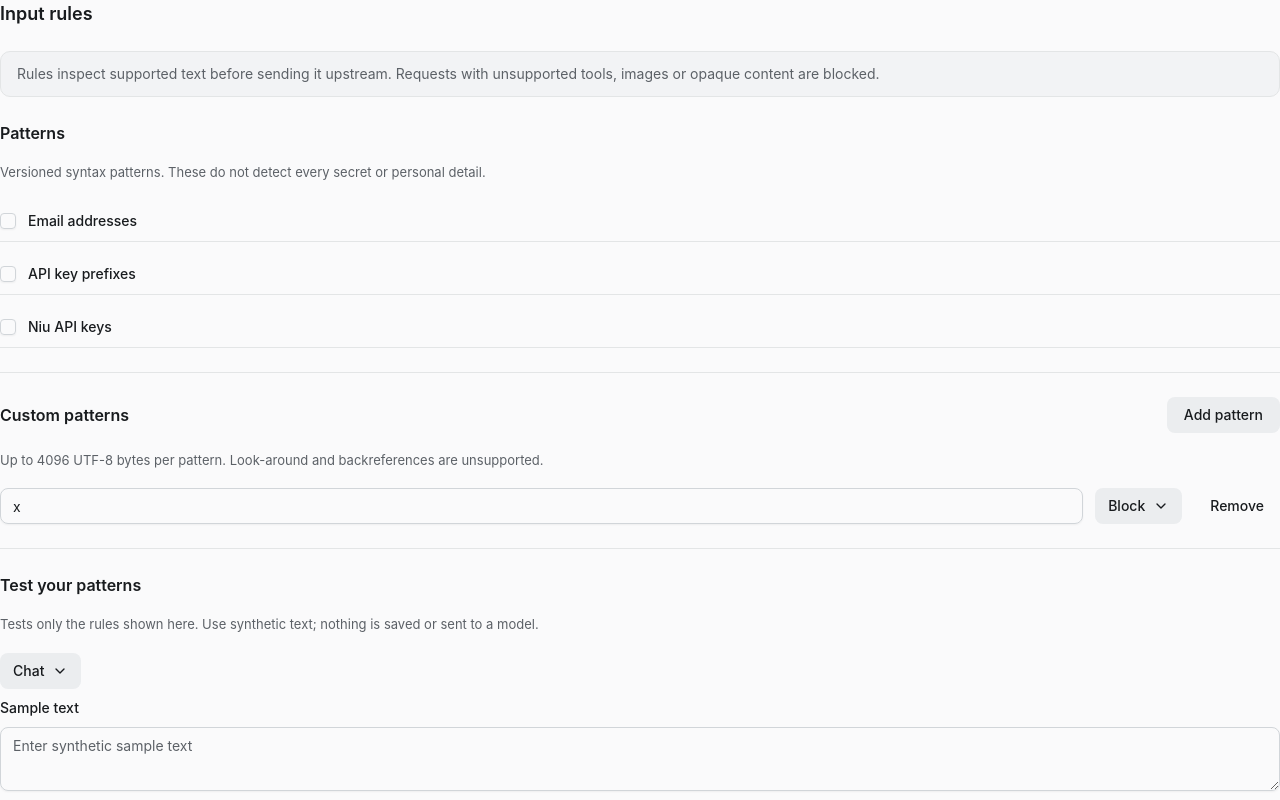
Test: local content controls › does not display stale results when an in-flight test is superseded
Type "x" into the text box labelled "Sample text". click: x=640, y=758
box: x1=0 y1=726 x2=1279 y2=790
(page scrolled)
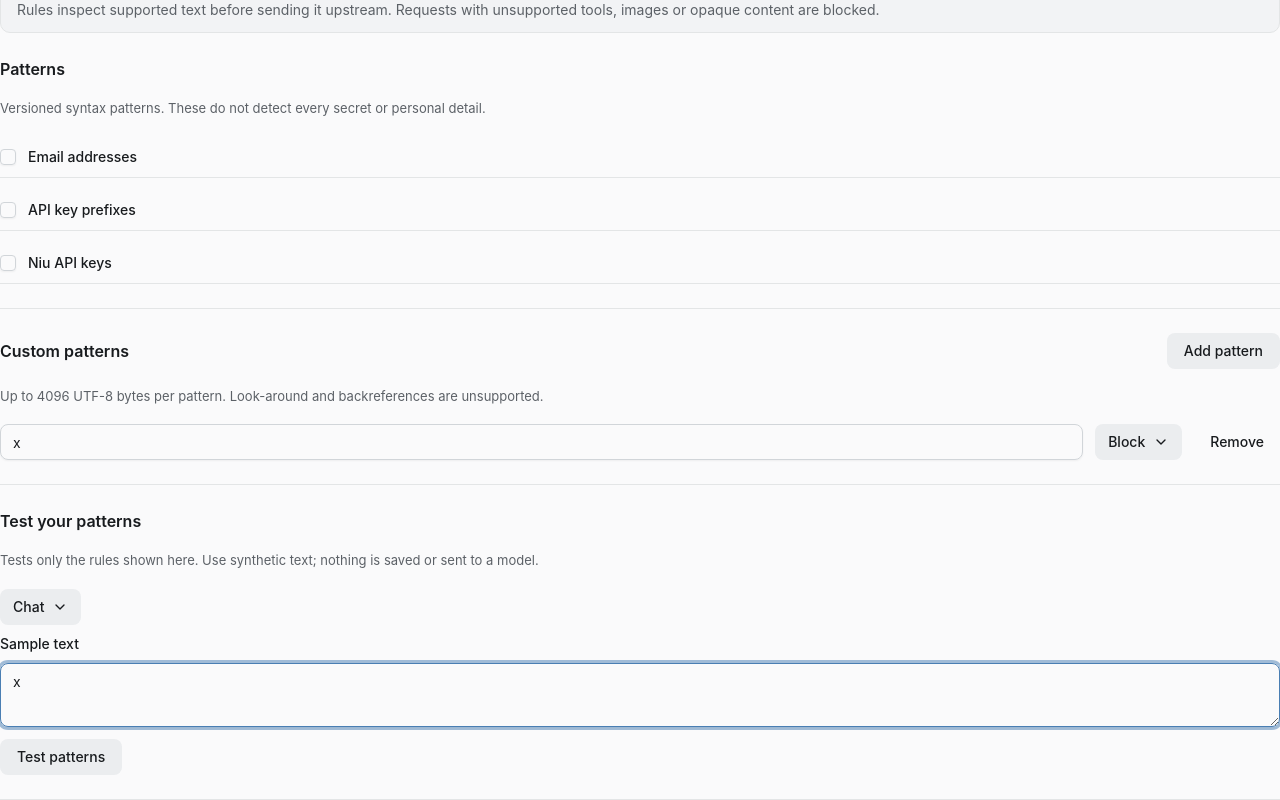
Click the button "Test patterns". click: x=61, y=756
box: x1=0 y1=738 x2=122 y2=774
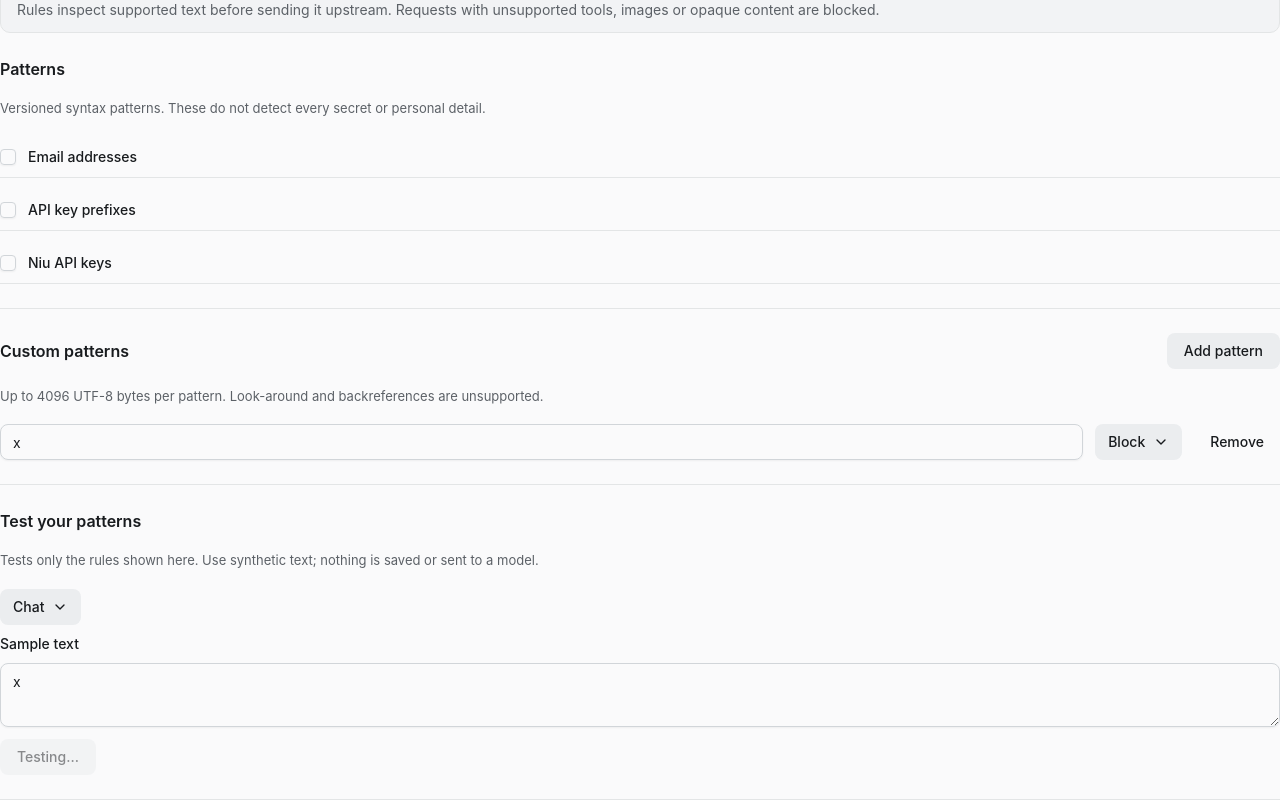
Type "changed" into the text box labelled "Sample text". click: x=640, y=694
box: x1=0 y1=662 x2=1279 y2=726
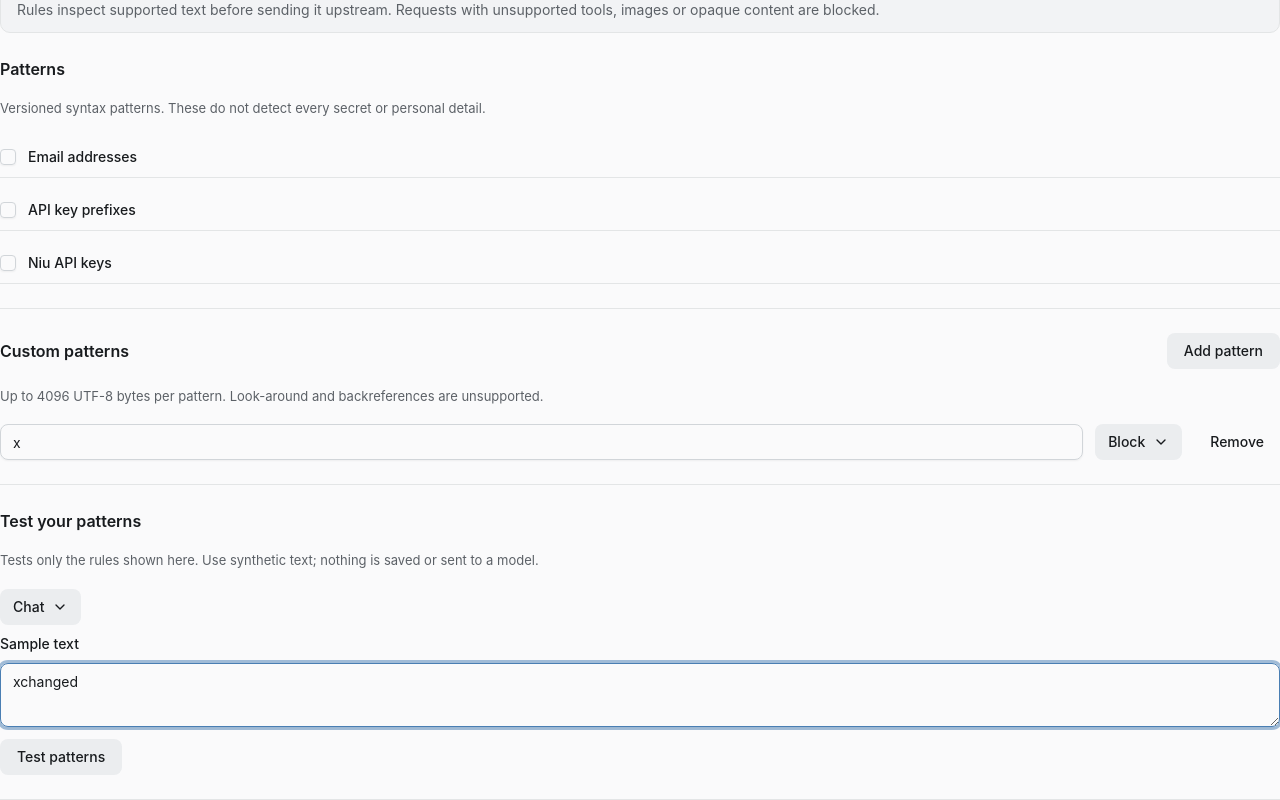
Check: the button "Test patterns" is enabled, box x1=0 y1=738 x2=122 y2=774
